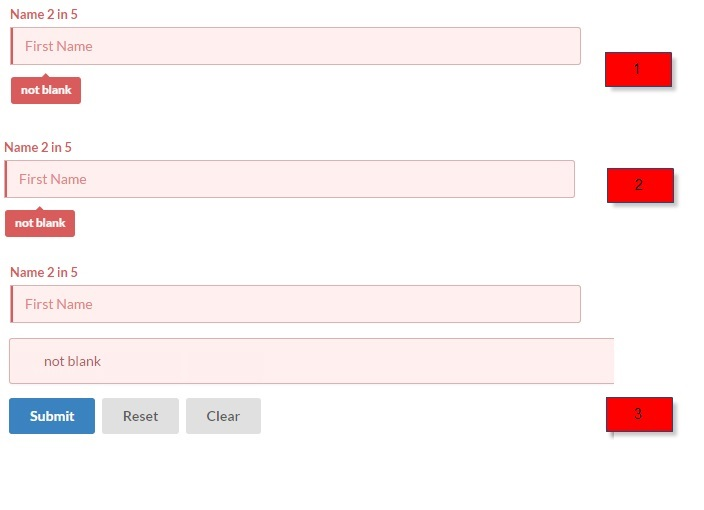error_field: (8, 283, 582, 324), (10, 26, 582, 66), (3, 160, 577, 199)
error_message: (43, 352, 103, 371), (10, 6, 82, 21), (3, 139, 75, 154), (8, 265, 79, 279), (11, 215, 68, 231), (19, 81, 72, 97)
